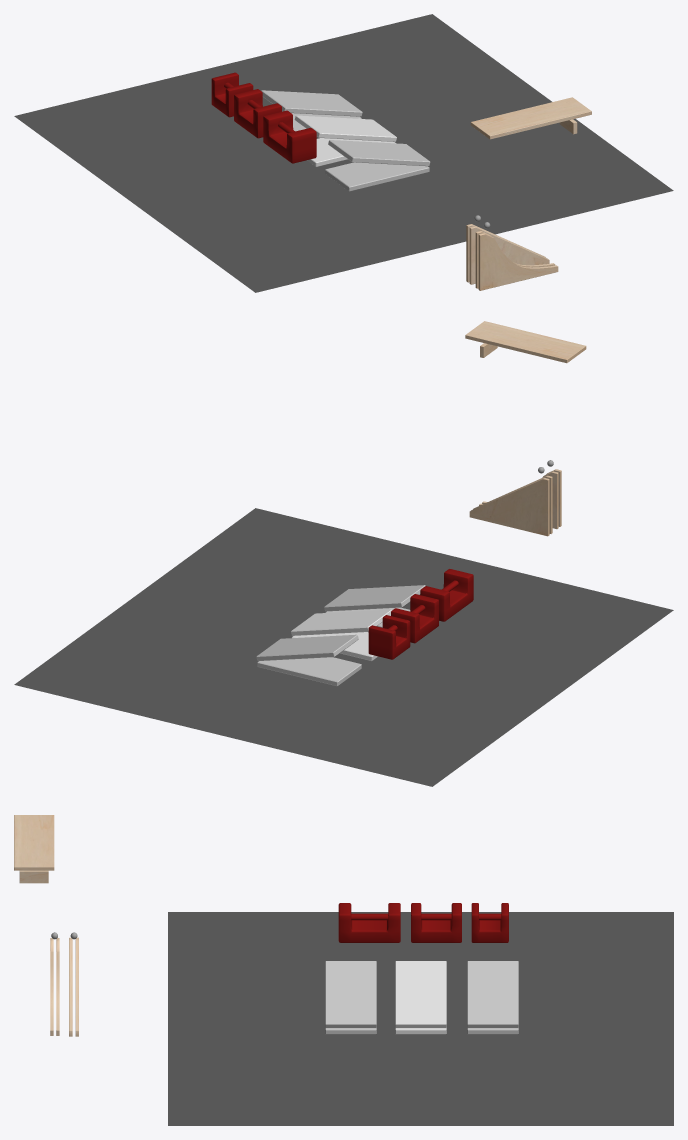
File: junho0804(2) 1.fbx
3 views of the same model, one above another, from view 1: azimuth 30°, elevation 25°; view 2: azimuth 150°, elevation 25°; view 3: azimuth 270°, elevation 25° (orthographic). The views are drawn at different scales.
Parts seen in each view (by area): view 1: Plane, Cube.011, Cube.009, Cube, Cube.003, Cube.010, Cube.004, Cube.007, Cube.002, Cube.008; view 2: Plane, Cube.010, Cube.005, Cube.009, Cube, Cube.011, Cube.004, Cube.008, Cube.007; view 3: Plane, Cube.009, Cube.010, Cube.011, Cube, Cube.004, Cube.007, Cube.008.
Part boxes in pixels (x1,y1,x2,y2): Plane: (14,14,673,292); Cube.011: (325,140,430,191); Cube.009: (294,115,396,166); Cube: (470,97,591,139); Cube.003: (478,233,558,290); Cube.010: (261,90,362,131); Cube.004: (263,110,316,163); Cube.007: (234,89,281,138); Cube.002: (469,226,549,284); Cube.008: (211,72,253,117); Plane: (14,508,673,786); Cube.010: (256,634,361,686); Cube.005: (469,478,549,536); Cube.009: (291,609,392,660); Cube: (465,321,586,363); Cube.011: (324,585,425,627); Cube.004: (420,569,473,621); Cube.008: (368,615,410,659); Cube.007: (391,594,438,643); Plane: (168,912,673,1125); Cube.009: (395,961,446,1034); Cube.010: (467,961,518,1034); Cube.011: (325,961,376,1034); Cube: (14,815,54,870); Cube.004: (338,903,400,942); Cube.007: (411,903,461,942); Cube.008: (471,903,508,942).
Bounding box in the file's own units: 7720 × 3020 × 10067.
